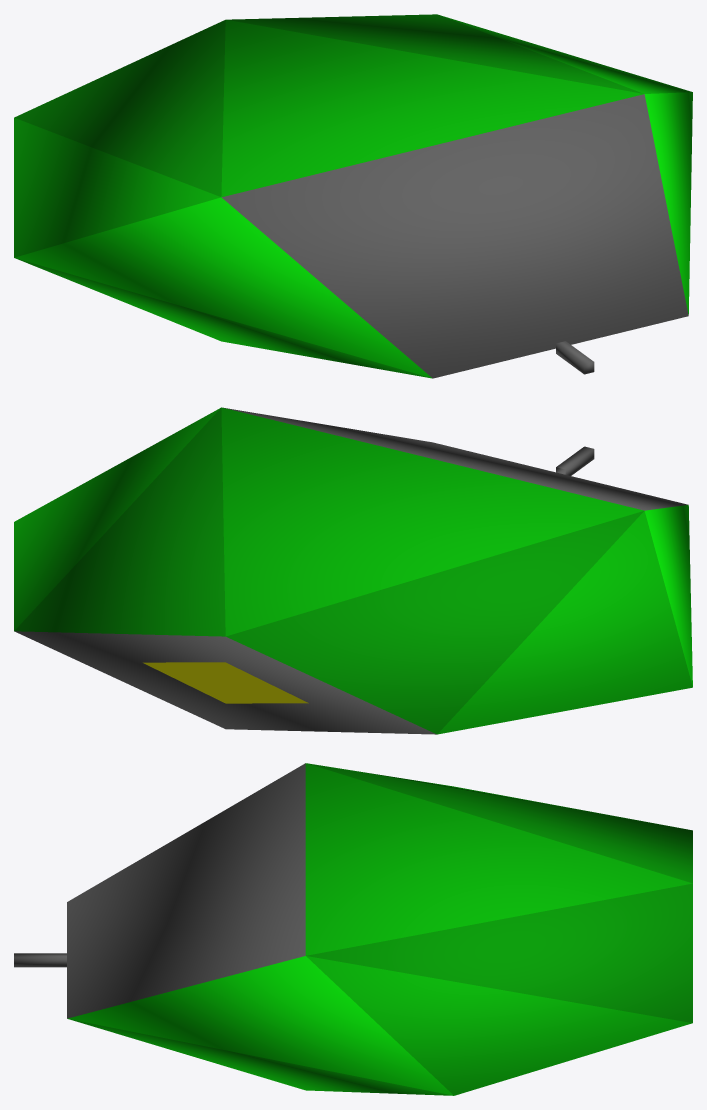
File: asp.fbx
3 renders of one model, top to bottom at view 1: azimuth 30°, elevation 25°; view 2: azimuth 150°, elevation 25°; view 3: azimuth 270°, elevation 25°, orthographic. The views are drawn at different scales.
Parts seen in each view (by area): view 1: asp; view 2: asp; view 3: asp.
Boxes of the visible parts, x1,y1,x2,y2 form: asp: (14, 14, 692, 378); asp: (14, 407, 692, 734); asp: (14, 763, 692, 1095).
Size of the model in its own units: 1.38 by 0.32 by 1.28.
